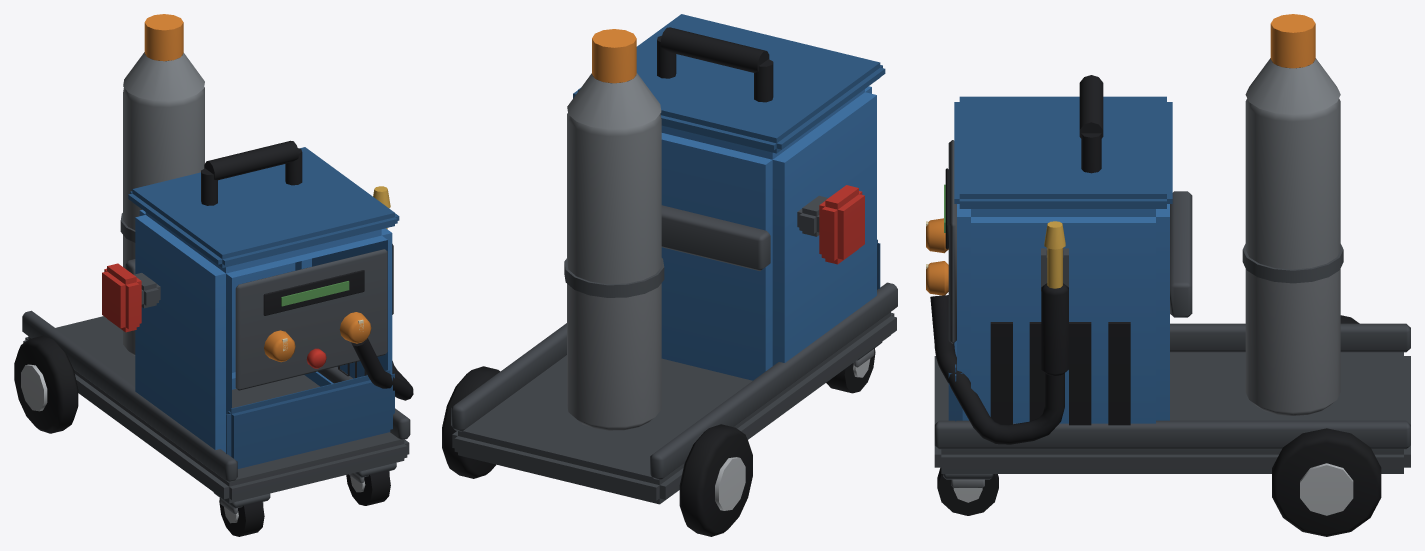
Rendered from SM_Welder_MIG_01.glb.
The picture shows the model from 3 angles, left to right: view 1: azimuth 30°, elevation 25°; view 2: azimuth 150°, elevation 25°; view 3: azimuth 270°, elevation 25°; orthographic projection. The views are drawn at different scales.
Parts seen in each view (by area): view 1: SM_Welder_MIG_01; view 2: SM_Welder_MIG_01; view 3: SM_Welder_MIG_01.
Part boxes in pixels (<box>): SM_Welder_MIG_01: <box>14,14,413,536</box>; SM_Welder_MIG_01: <box>442,14,897,536</box>; SM_Welder_MIG_01: <box>926,14,1410,536</box>.
Size of the model in its own units: 0.606 by 0.89 by 0.865.
Materials: 1 (1 with a texture image).
